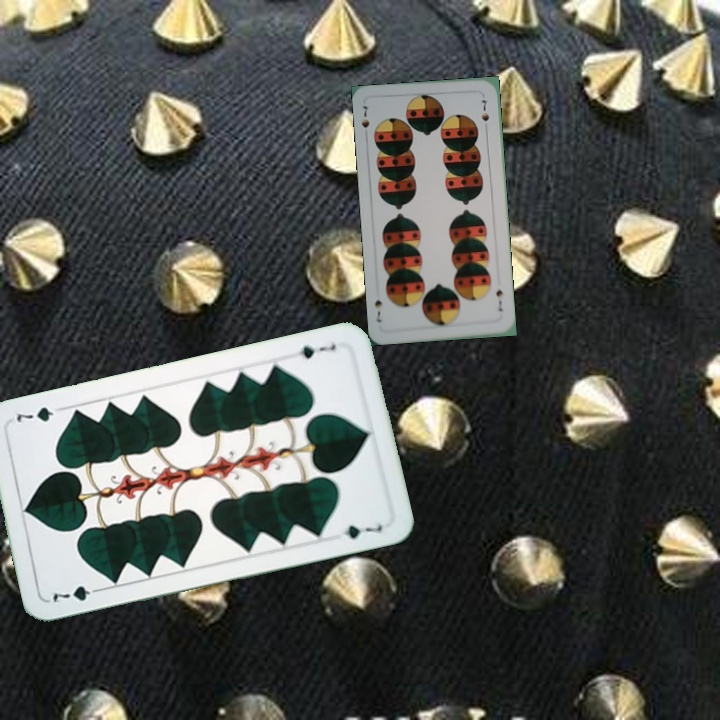G7: (48, 581, 106, 605), (295, 339, 339, 361)
S7: (356, 101, 372, 130), (492, 286, 505, 314)
